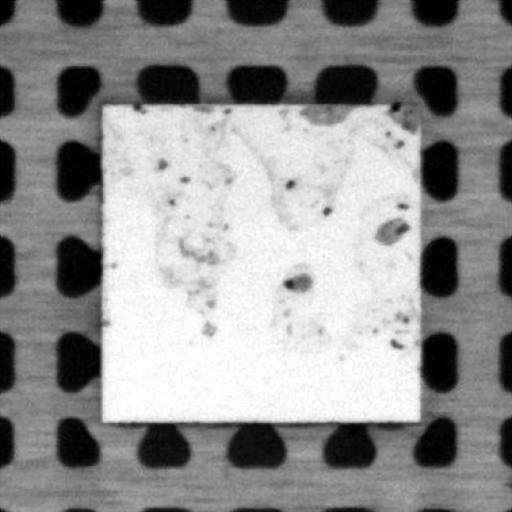DIE_INK: (104, 104, 413, 358)
